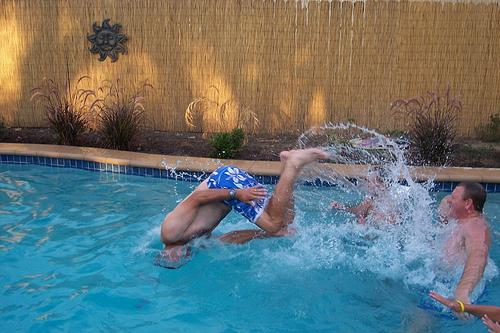human: (157, 145, 316, 268), (424, 182, 491, 312), (330, 160, 398, 227)
